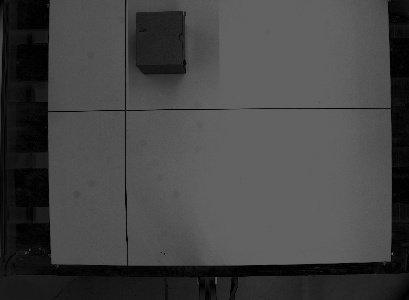b5: (132, 6, 190, 76)
